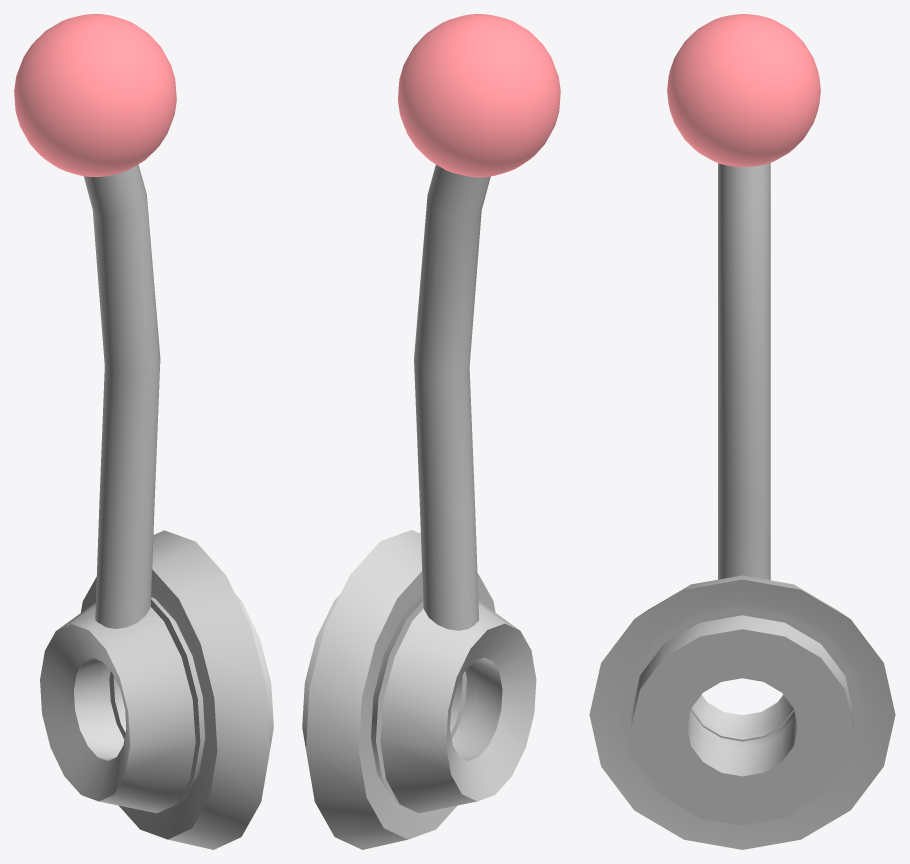
The model's file is handle.glb.
The picture shows the model from 3 angles, left to right: view 1: azimuth 30°, elevation 25°; view 2: azimuth 150°, elevation 25°; view 3: azimuth 270°, elevation 25°; orthographic projection. The views are drawn at different scales.
Parts seen in each view (by area): view 1: Boolean, Tube.2, Boolean.1, Sphere; view 2: Boolean, Tube.2, Boolean.1, Sphere; view 3: Boolean, Tube.2, Sphere, Boolean.1.
Part boxes in pixels (x1,y1,x2,y2): Boolean: [81, 530, 273, 849]; Tube.2: [83, 164, 160, 628]; Boolean.1: [40, 602, 195, 813]; Sphere: [14, 14, 176, 176]; Boolean: [302, 530, 495, 849]; Tube.2: [414, 164, 490, 630]; Boolean.1: [380, 600, 536, 813]; Sphere: [398, 14, 560, 177]; Boolean: [589, 575, 895, 849]; Tube.2: [718, 163, 770, 580]; Sphere: [667, 14, 820, 166]; Boolean.1: [691, 695, 793, 741].
Size of the model in its own units: 0.646 by 2.66 by 0.9349.
